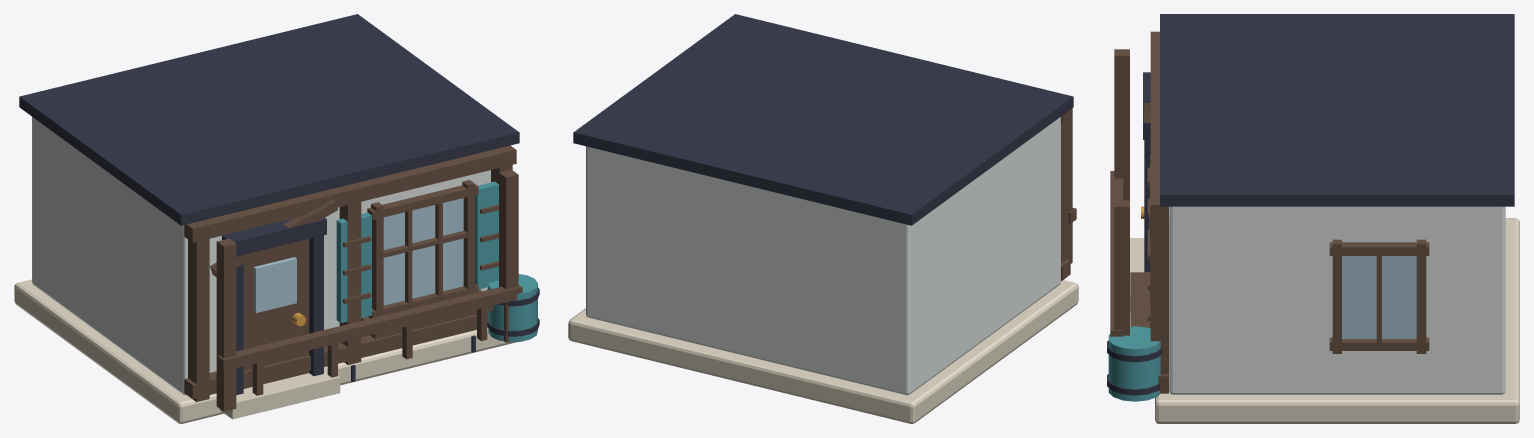
File: base_house_banks_0.glb
3 views of the same model, side by side, from view 1: azimuth 30°, elevation 25°; view 2: azimuth 150°, elevation 25°; view 3: azimuth 270°, elevation 25° (orthographic). The views are drawn at different scales.
Visible parts, largest first — view 1: base_house_banks_0 ink, base_house_banks_0 wood, base_house_banks_0 plaster, base_house_banks_0 mist, base_house_banks_0 glass, base_house_banks_0 river; view 2: base_house_banks_0 plaster, base_house_banks_0 ink, base_house_banks_0 mist, base_house_banks_0 wood; view 3: base_house_banks_0 ink, base_house_banks_0 plaster, base_house_banks_0 wood, base_house_banks_0 mist, base_house_banks_0 glass, base_house_banks_0 river.
Part boxes in pixels (x1=…): base_house_banks_0 ink: x1=19, y1=14, x2=539, y2=395; base_house_banks_0 wood: x1=184, y1=145, x2=522, y2=411; base_house_banks_0 plaster: x1=32, y1=117, x2=490, y2=395; base_house_banks_0 mist: x1=14, y1=279, x2=517, y2=423; base_house_banks_0 glass: x1=253, y1=198, x2=463, y2=312; base_house_banks_0 river: x1=336, y1=181, x2=537, y2=342; base_house_banks_0 plaster: x1=586, y1=117, x2=1060, y2=395; base_house_banks_0 ink: x1=573, y1=14, x2=1073, y2=225; base_house_banks_0 mist: x1=568, y1=280, x2=1078, y2=423; base_house_banks_0 wood: x1=1061, y1=108, x2=1076, y2=281; base_house_banks_0 ink: x1=1107, y1=14, x2=1514, y2=395; base_house_banks_0 plaster: x1=1169, y1=206, x2=1505, y2=394; base_house_banks_0 wood: x1=1110, y1=31, x2=1429, y2=393; base_house_banks_0 mist: x1=1130, y1=218, x2=1519, y2=423; base_house_banks_0 glass: x1=1342, y1=256, x2=1416, y2=338; base_house_banks_0 river: x1=1108, y1=326, x2=1160, y2=401.
Bounding box in the file's own units: 0.8445 × 0.48 × 0.7861.
